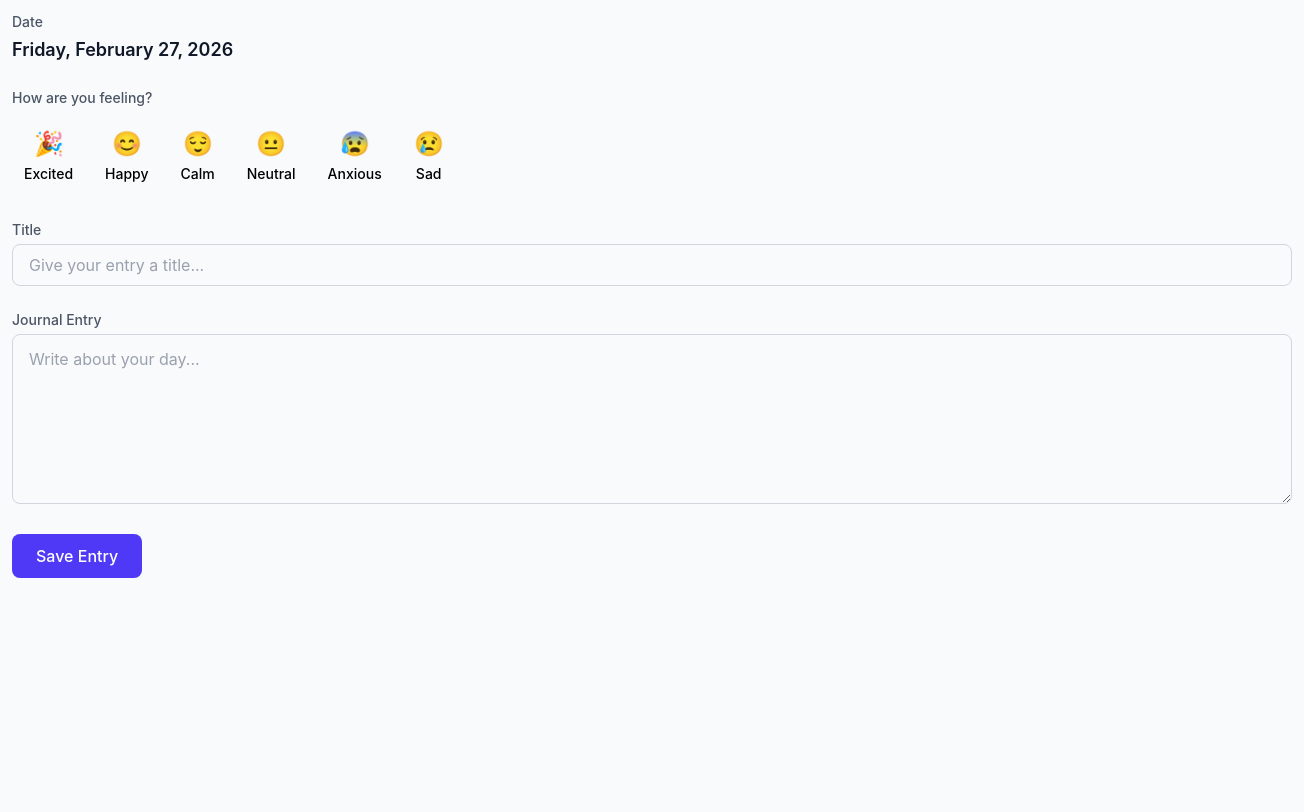
Test: EntryForm › shows validation when submitting without mood or title
Click the button "Save Entry".
click(77, 556)  # box [12,534,142,578]
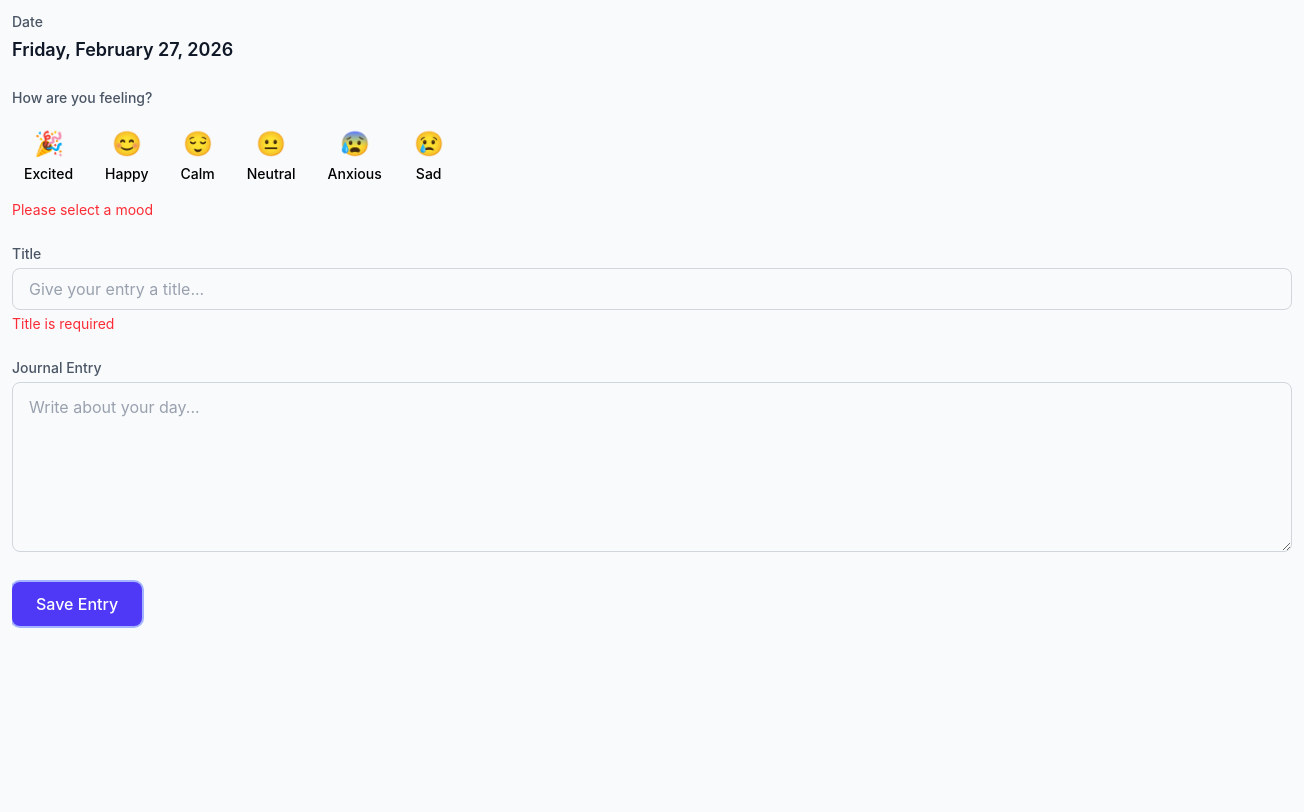
Expected: the text "Please select a mood" is shown, [12,201,153,218]
Expected: the text "Title is required" is shown, [12,315,114,332]
